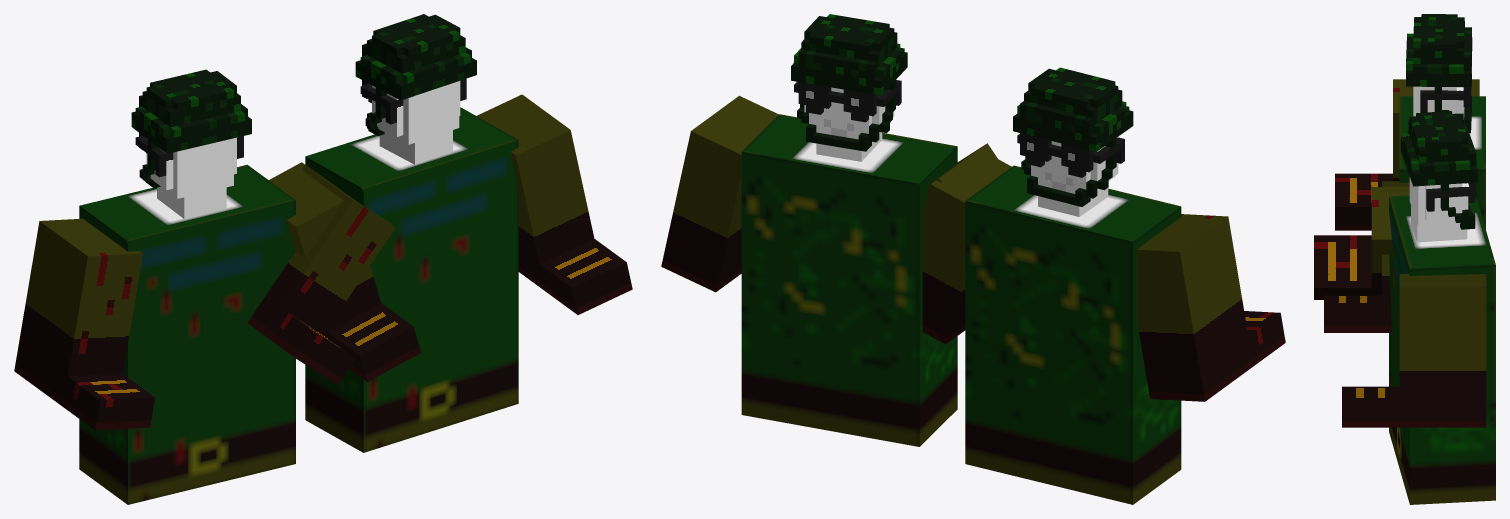
File: bros.dae
3 views of the same model, side by side, from view 1: azimuth 30°, elevation 25°; view 2: azimuth 150°, elevation 25°; view 3: azimuth 270°, elevation 25° (orthographic). The views are drawn at different scales.
Visible parts, largest first — view 1: main_char_body-local (×2), Leg_R-local (×2), main_char_head-local (×2), Leg_L-local (×2); view 2: main_char_body-local (×2), main_char_head-local (×2), Leg_L-local (×2), Leg_R-local; view 3: Leg_L-local (×2), main_char_body-local (×2), main_char_head-local (×2), Leg_R-local (×2).
Boxes of the visible parts, box(x1,y1,x2,y2) form: main_char_body-local (×2): box(79, 107, 518, 504); Leg_R-local (×2): box(14, 165, 395, 430); main_char_head-local (×2): box(131, 14, 476, 219); Leg_L-local (×2): box(269, 94, 632, 381); main_char_body-local (×2): box(741, 114, 1181, 504); main_char_head-local (×2): box(791, 14, 1133, 216); Leg_L-local (×2): box(661, 95, 1011, 344); Leg_R-local: box(1132, 214, 1285, 401); Leg_L-local (×2): box(1324, 181, 1486, 427); main_char_body-local (×2): box(1389, 96, 1495, 504); main_char_head-local (×2): box(1400, 14, 1477, 242); Leg_R-local (×2): box(1314, 79, 1479, 299).
Bounding box in the file's own units: 77.33 × 52 × 25.2.
Materials: 4 (4 with a texture image).
